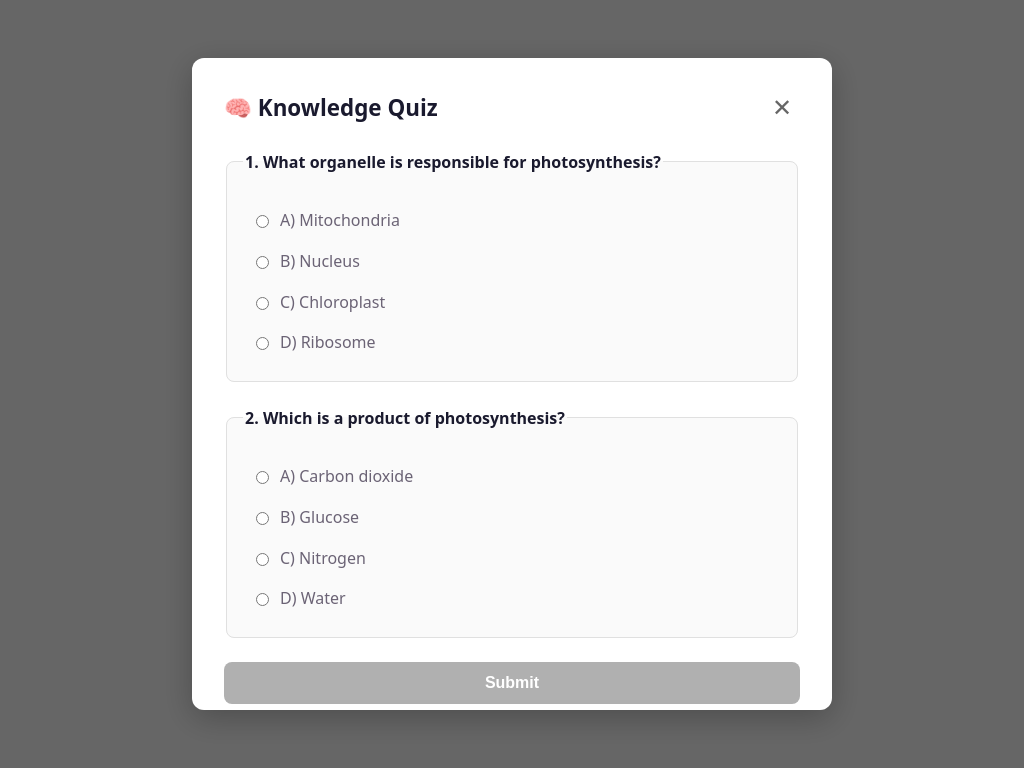
Test case: QuizPanel › shows mixed score with correct/incorrect indicators and explanations
This screenshot has width=1024, height=768.
expect the text "1. What organelle is responsible for photosynthesis?" is shown: met, box [243, 150, 663, 174]
// Q0 correct (Chloroplast), Q1 wrong (Carbon dioxide)
Click the radio button labelled "C) Chloroplast" at (262, 303), box [256, 296, 269, 310]
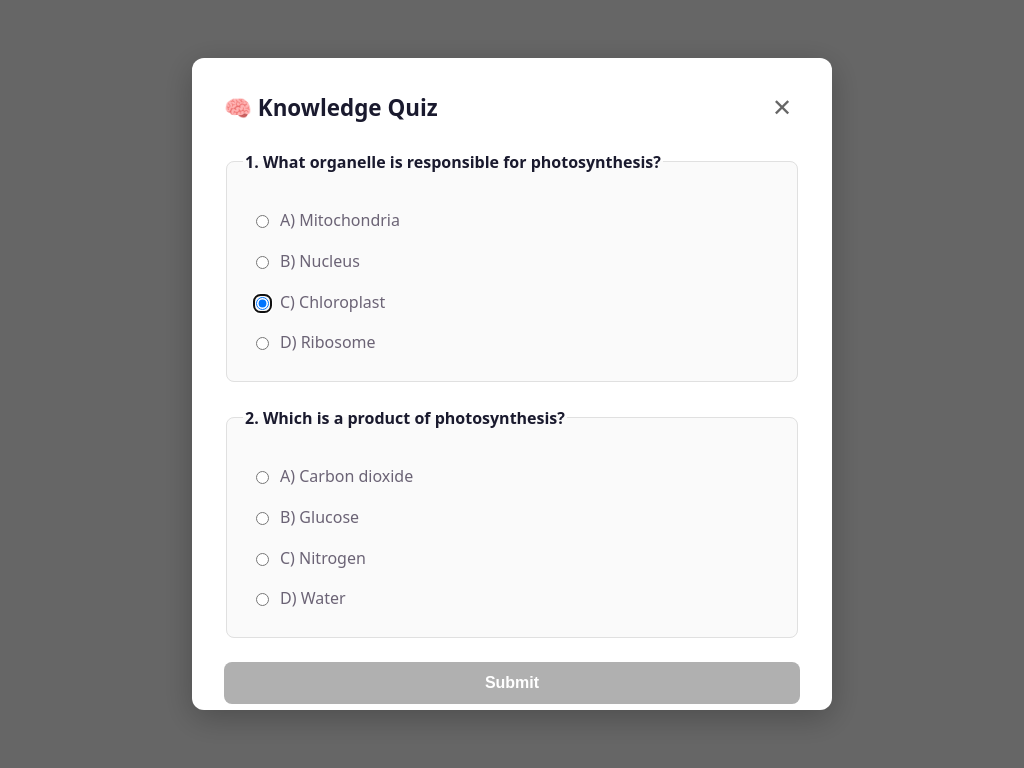
Click the radio button labelled "A) Carbon dioxide" at (262, 478), box [256, 471, 269, 484]
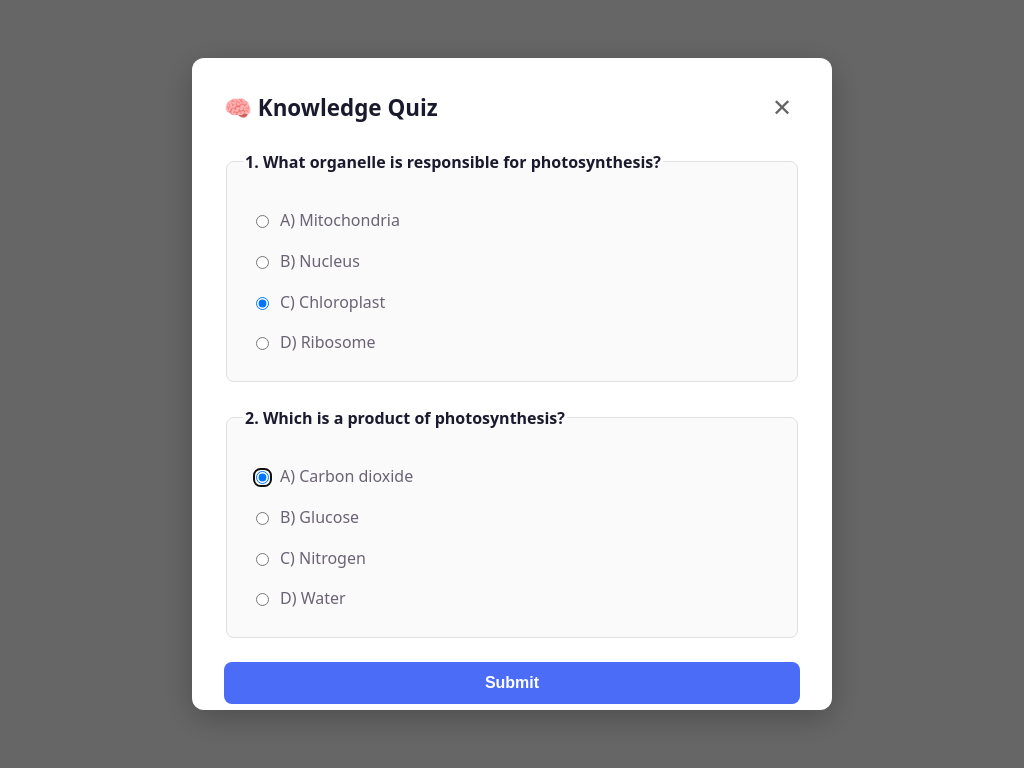
Click the button with aria-label "submit quiz answers" at (512, 683), box [224, 662, 800, 704]
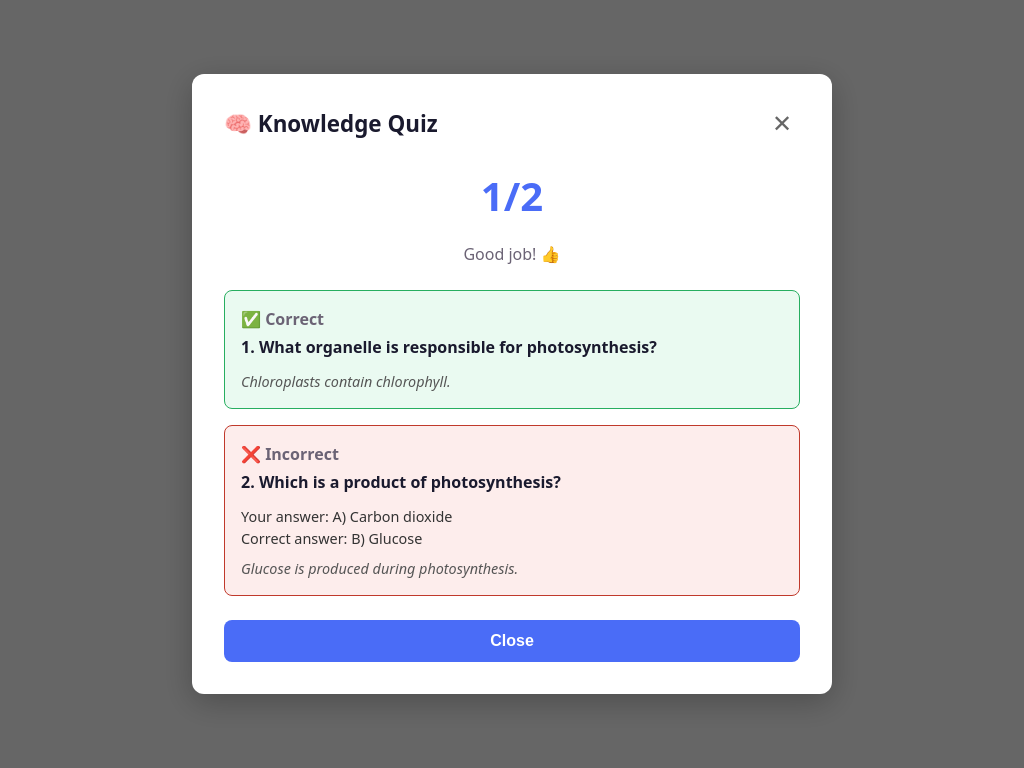
expect the text "1/2" is shown: met, box [481, 168, 543, 223]
expect the text "✅ Correct" is shown: met, box [241, 308, 324, 330]
expect the text "❌ Incorrect" is shown: met, box [241, 443, 339, 465]
